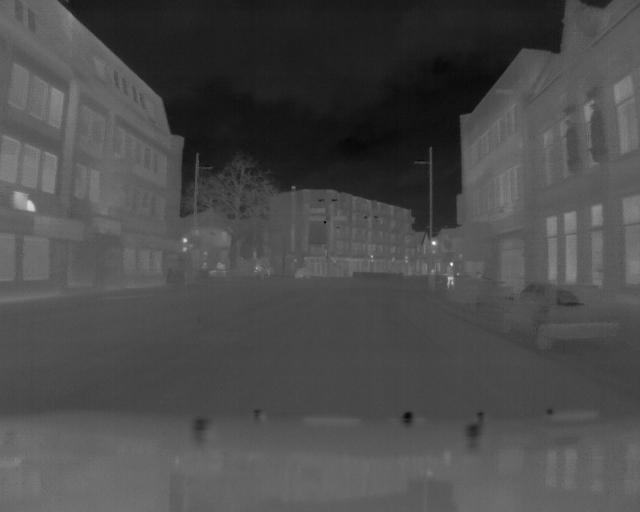car: (498, 280, 612, 349)
person: (444, 260, 458, 293)
